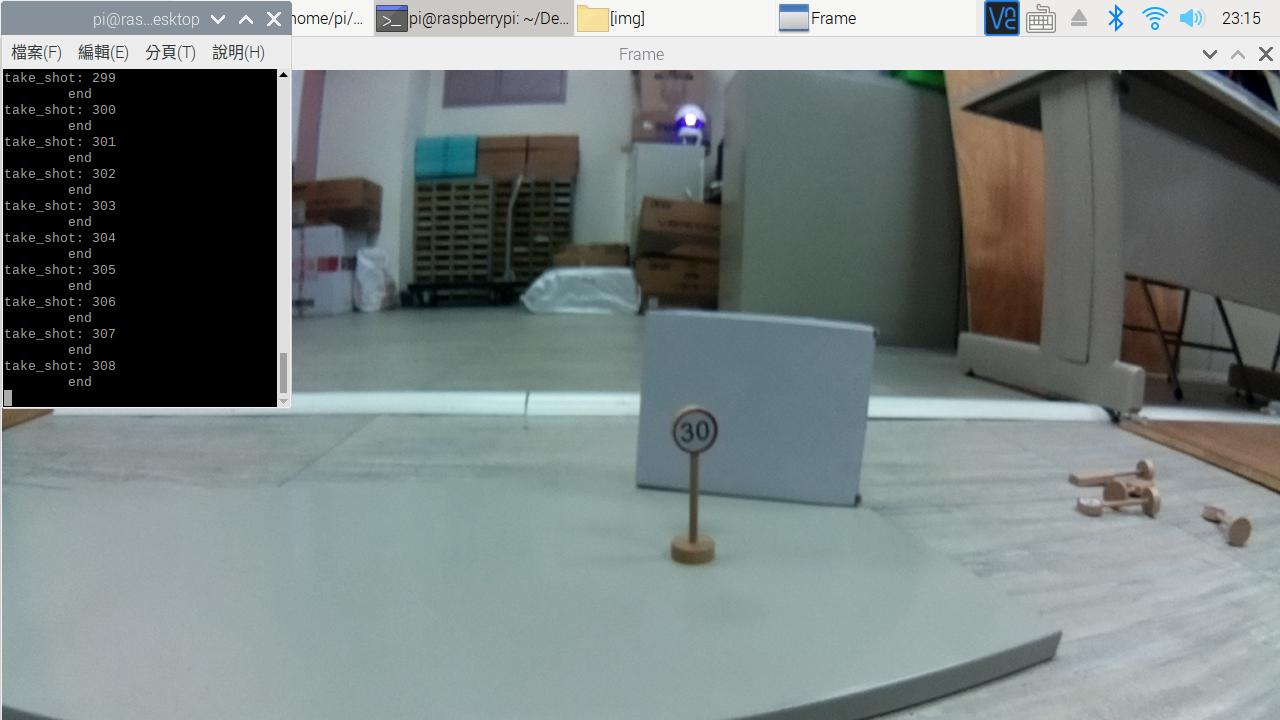Speed30: (661, 391, 730, 475)
